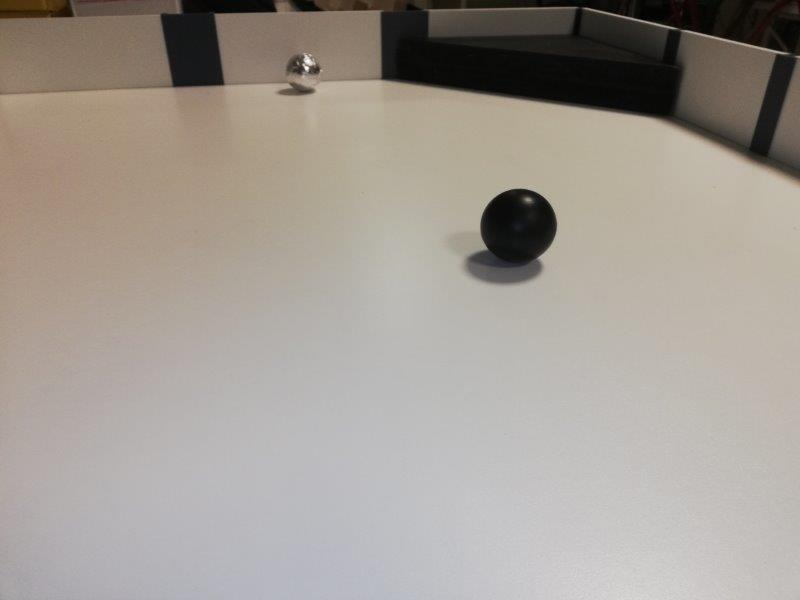bianca: (284, 55, 326, 90)
nera: (482, 187, 556, 263)
